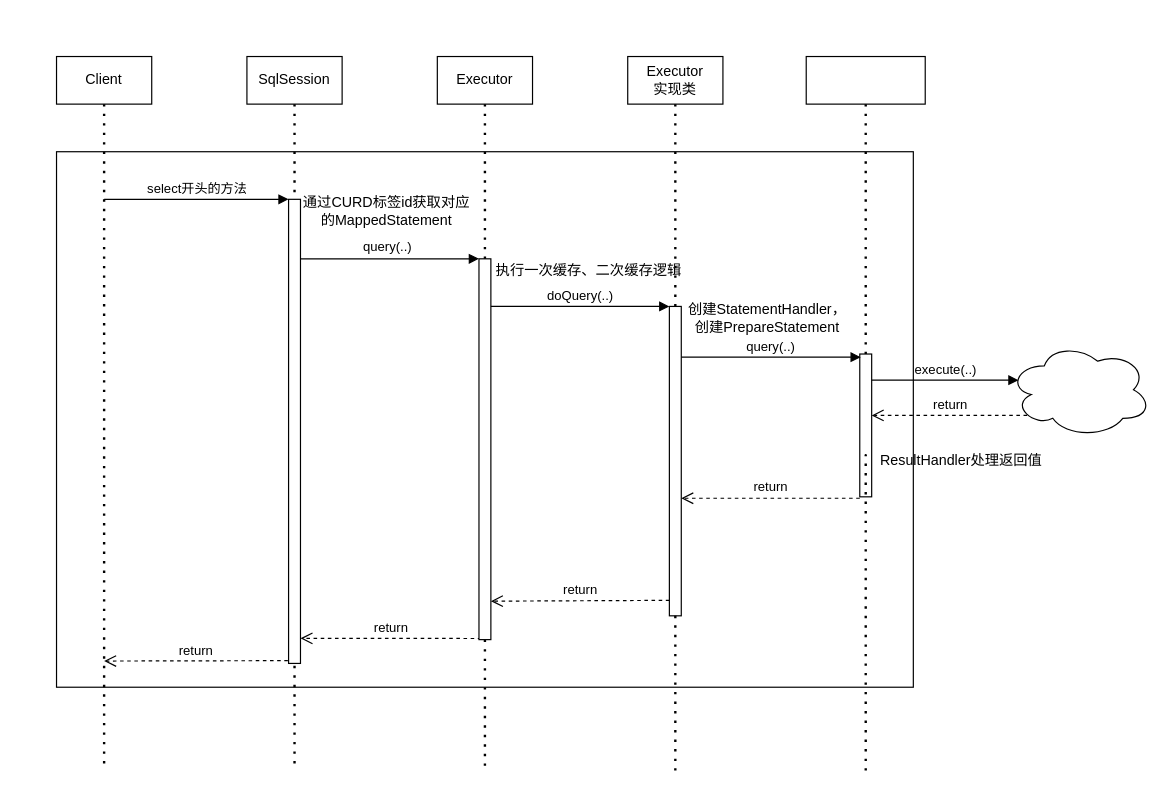
This 1172x802 diagram has some shape labels left out. Each missing label, with the centre of its shape:
"Java程序访问数据库的标准接口" goes at pixel 1079 389.
"StatementHandler" goes at pixel 865 79.
